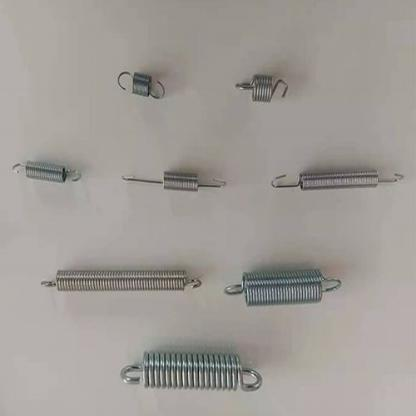FOD: (118, 349, 266, 396), (220, 264, 343, 308), (38, 266, 203, 295), (268, 163, 404, 195), (119, 169, 227, 196), (10, 159, 83, 184), (233, 73, 290, 105), (115, 69, 166, 101)
